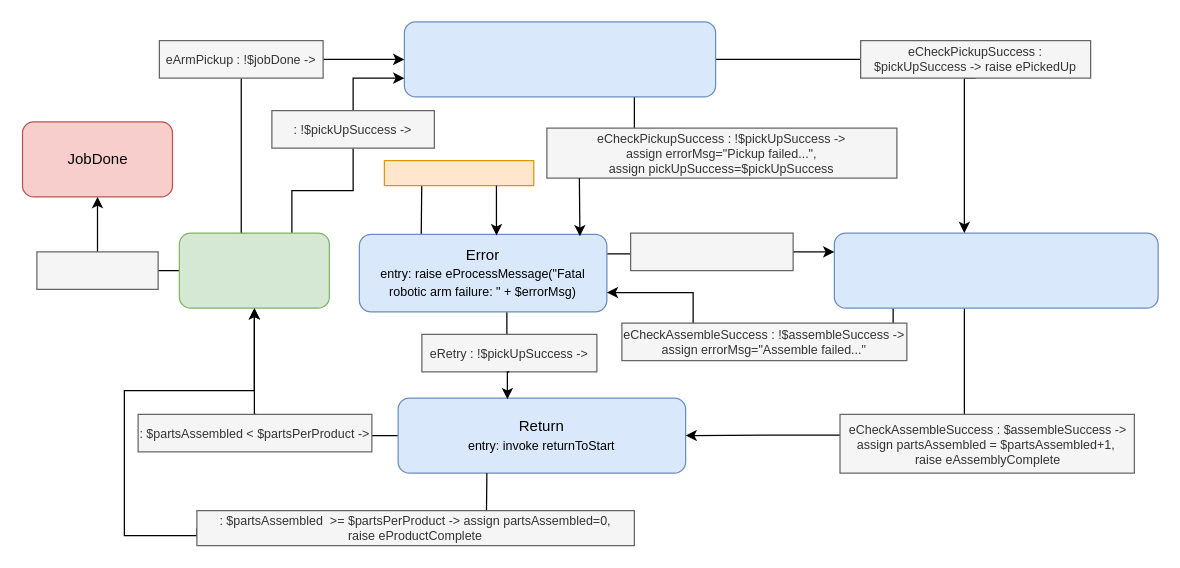
Image size: 1180x568. Some labels were removed from this diagram. The shapes that lost their labels are listed below. From the top down, each one's centre as x and y in pixels, then its label:
At (x=559, y=59): "Pickup entry: invoke pickUp (done eCheckPickUpSuccess)".
At (x=458, y=172): "timeout : -> raise eRetry".
At (x=97, y=270): "eJobDone : ->".
At (x=253, y=270): "Idle".
At (x=711, y=251): "eRetry : $pickUpSuccess ->".
At (x=995, y=270): "Assemble entry: invoke assemble (done eCheckAssembleSuccess)".
